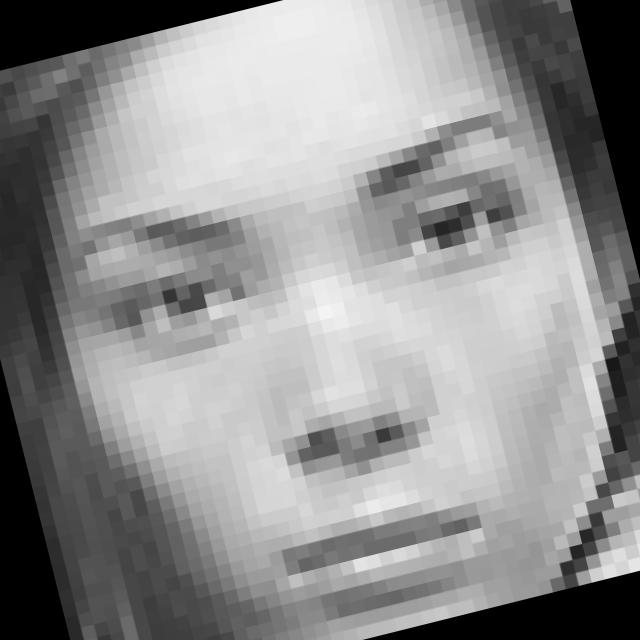neutral: (51, 87, 633, 640)
